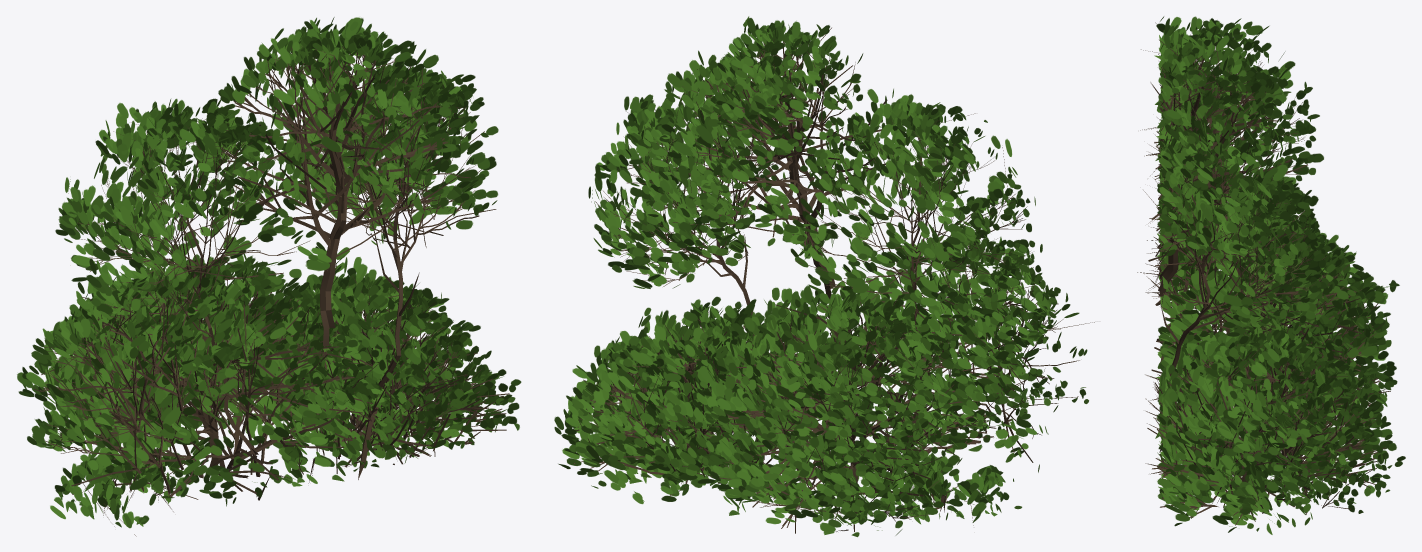
3 renders of one model, left to right at view 1: azimuth 30°, elevation 25°; view 2: azimuth 150°, elevation 25°; view 3: azimuth 270°, elevation 25°, orthographic. The views are drawn at different scales.
Visible parts, largest first — view 1: oak 01.001_trunk_Mat.001_0.382; view 2: oak 01.001_trunk_Mat.001_0.382; view 3: oak 01.001_trunk_Mat.001_0.382.
Boxes of the visible parts, <box> form: oak 01.001_trunk_Mat.001_0.382: <box>17,17,521,536</box>; oak 01.001_trunk_Mat.001_0.382: <box>554,16,1094,537</box>; oak 01.001_trunk_Mat.001_0.382: <box>1137,16,1405,534</box>.
Size of the model in its own units: 4.37 by 3.85 by 2.22.
2 materials, 1 textured.
